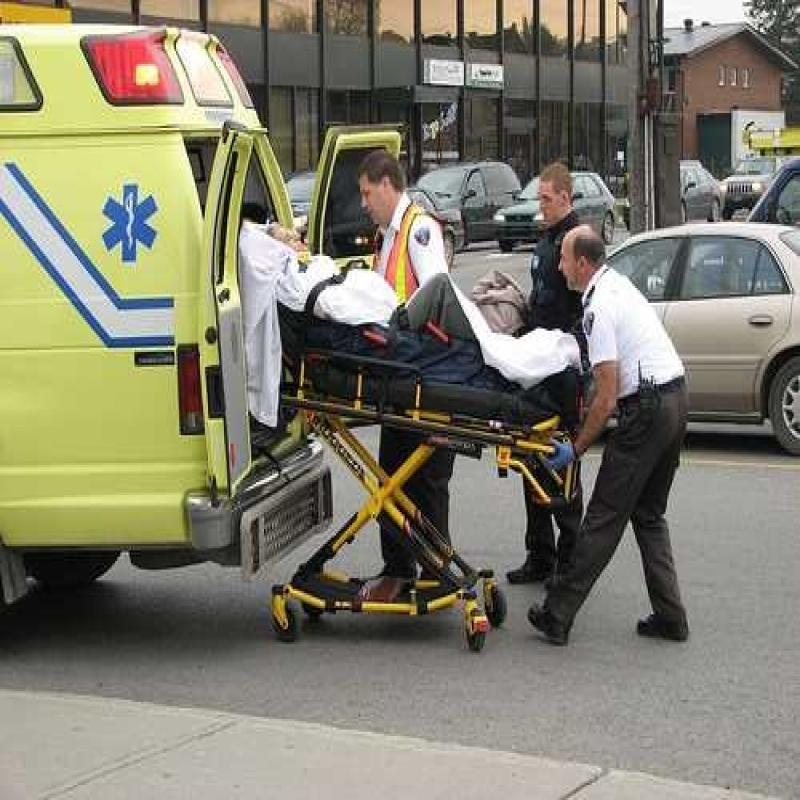AmbulanceSiren: (96, 22, 257, 137)
